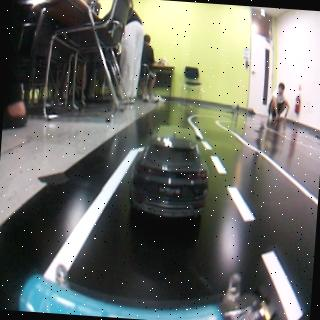car: (126, 121, 214, 226)
